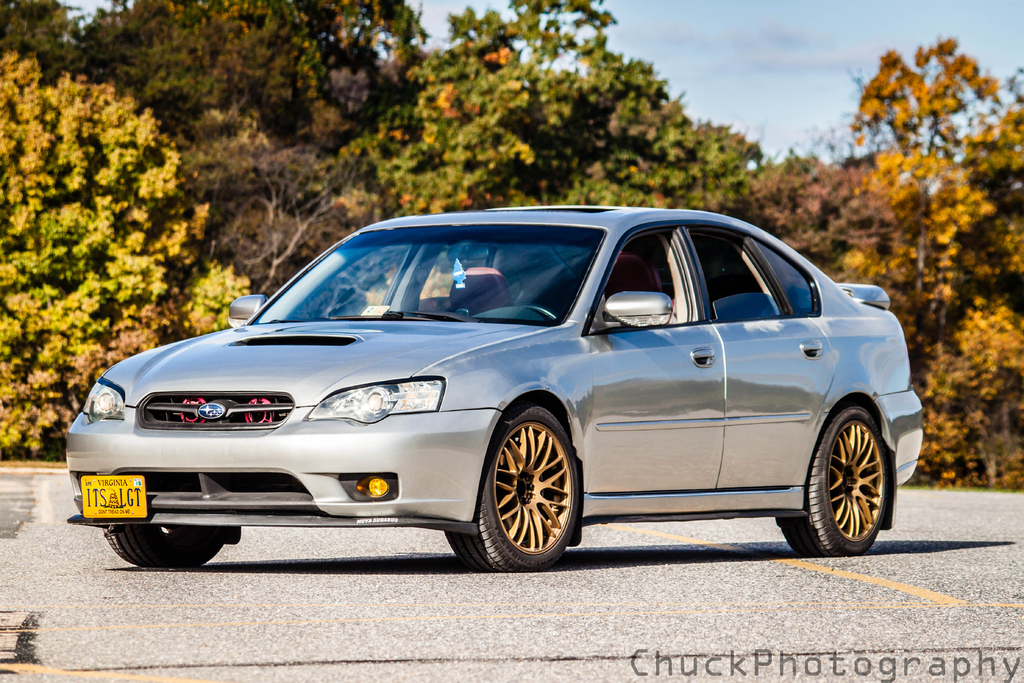Car: (81, 205, 922, 578)
